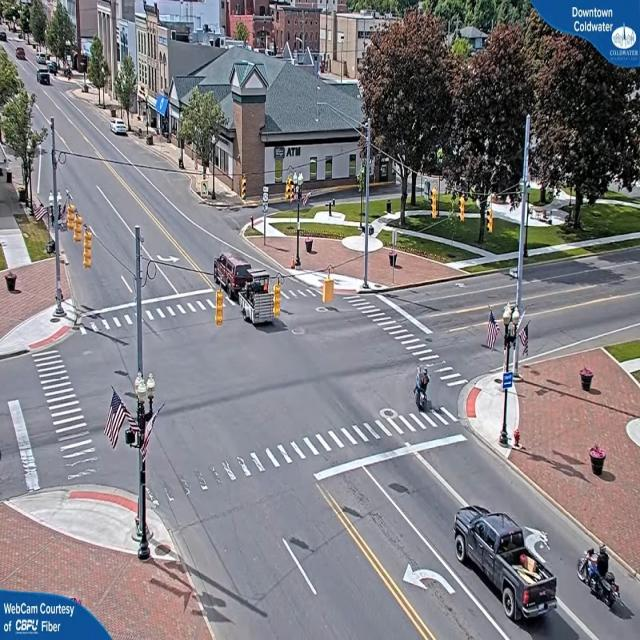car: (453, 503, 558, 630), (112, 120, 129, 136)
motorbike: (576, 541, 622, 609), (414, 366, 433, 410)
